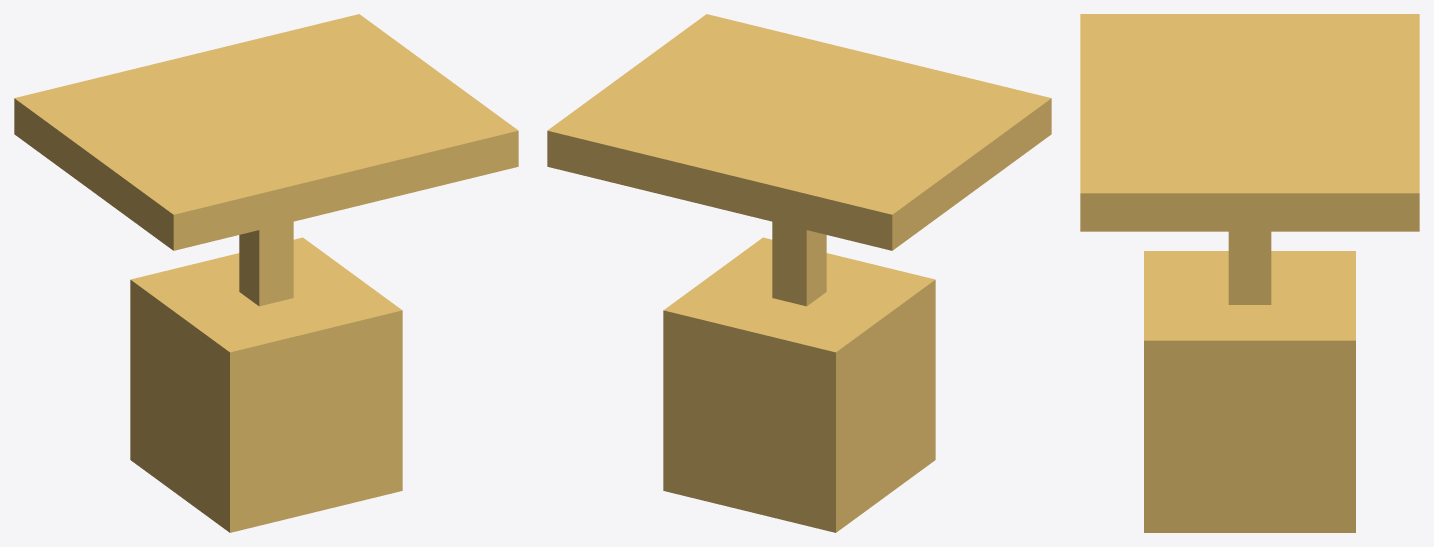
File: fuel-station.glb
The picture shows the model from 3 angles, left to right: view 1: azimuth 30°, elevation 25°; view 2: azimuth 150°, elevation 25°; view 3: azimuth 270°, elevation 25°; orthographic projection. The views are drawn at different scales.
Parts seen in each view (by area): view 1: fuel-station; view 2: fuel-station; view 3: fuel-station.
Boxes of the visible parts, box(x1,y1,x2,y2) form: fuel-station: box(14, 14, 518, 532); fuel-station: box(547, 14, 1051, 532); fuel-station: box(1080, 14, 1419, 532).
Bounding box in the file's own units: 1 × 1 × 0.8.
